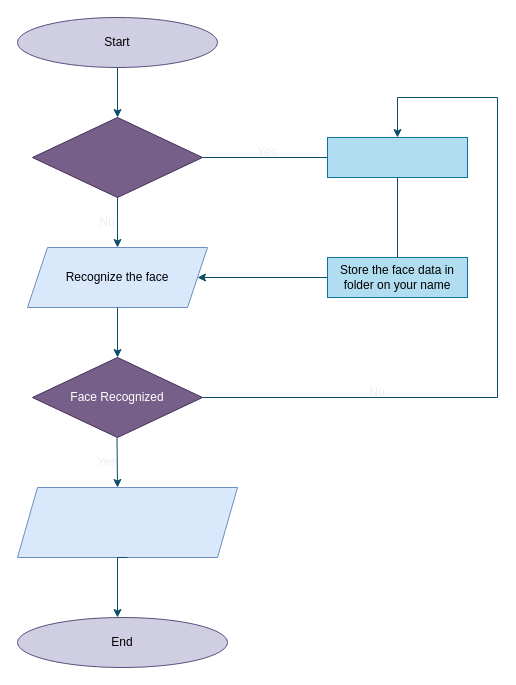
Some shapes in this 516 by 685 pixel diagram are drawn without their labels. Each missing label, with the box of its shape:
Give your photograph: (326, 136, 468, 178)
New User ?: (32, 116, 202, 198)
Stored in CVS file with Registration Number and Date ,Time of Entry: (16, 486, 238, 558)
